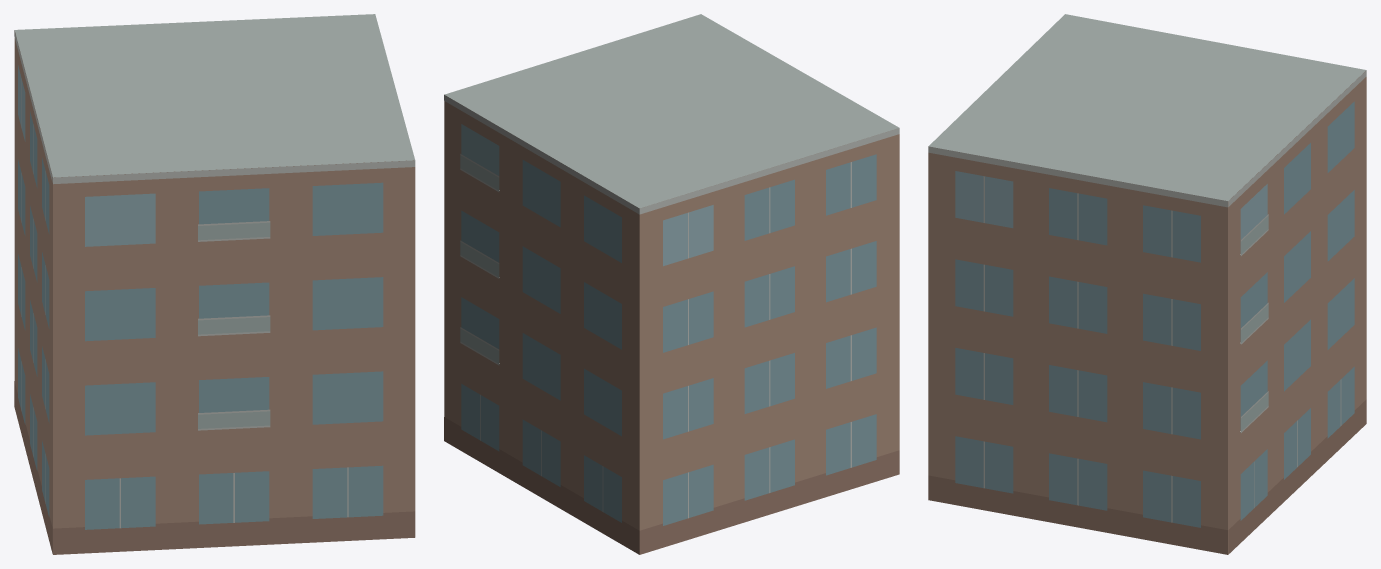
The model's file is survey-upis-33034429.glb.
3 views of the same model, side by side, from view 1: azimuth 30°, elevation 25°; view 2: azimuth 150°, elevation 25°; view 3: azimuth 270°, elevation 25° (orthographic). The views are drawn at different scales.
Visible parts, largest first — view 1: survey-upis-33034429.tmp; view 2: survey-upis-33034429.tmp; view 3: survey-upis-33034429.tmp.
Boxes of the visible parts, <box> form: survey-upis-33034429.tmp: <box>14,14,415,554</box>; survey-upis-33034429.tmp: <box>444,14,899,554</box>; survey-upis-33034429.tmp: <box>928,14,1366,554</box>.
Size of the model in its own units: 15.67 by 13.8 by 15.51.
